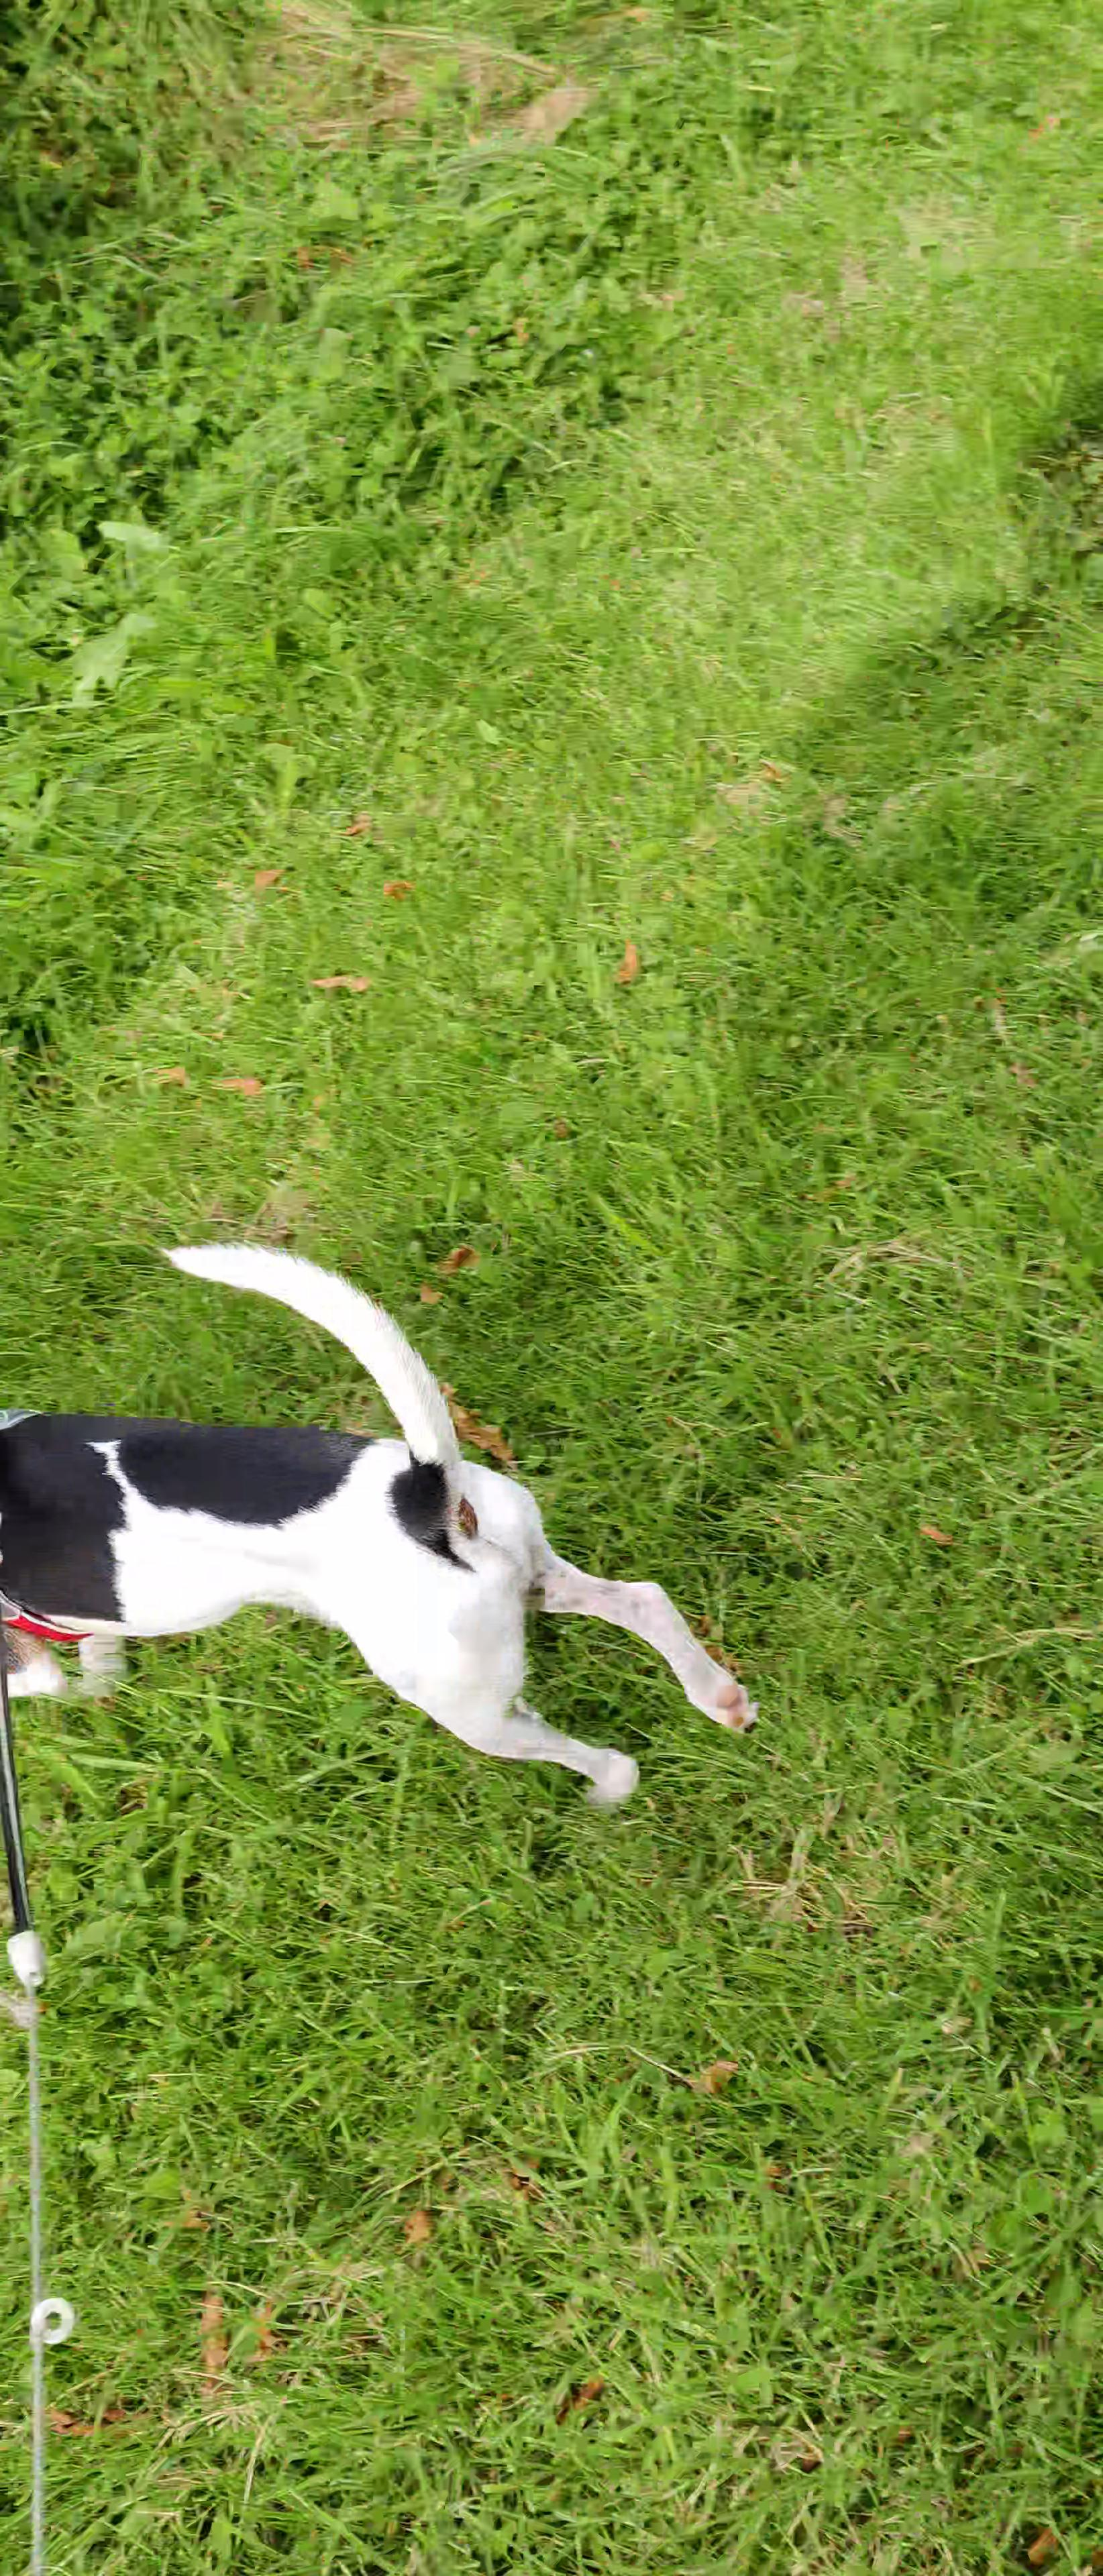Dog: (0, 1198, 817, 1825)
